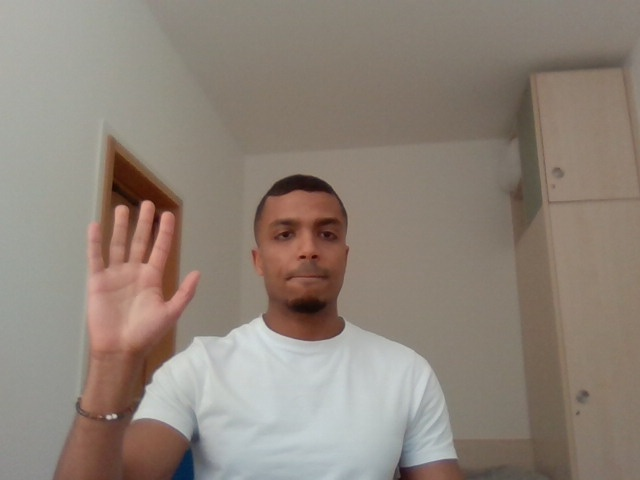hello: (61, 191, 209, 373)
